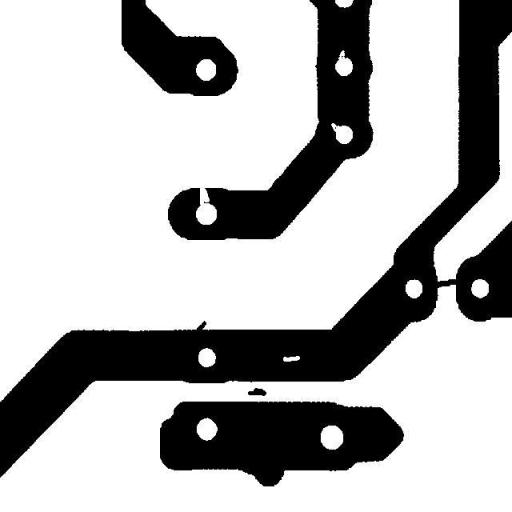copper: (240, 380, 274, 403)
mousebite: (323, 115, 348, 139), (330, 42, 352, 68)
open: (192, 179, 217, 213)
pin-hole: (275, 348, 307, 369)
short: (428, 271, 466, 295)
spur: (188, 313, 214, 338)
